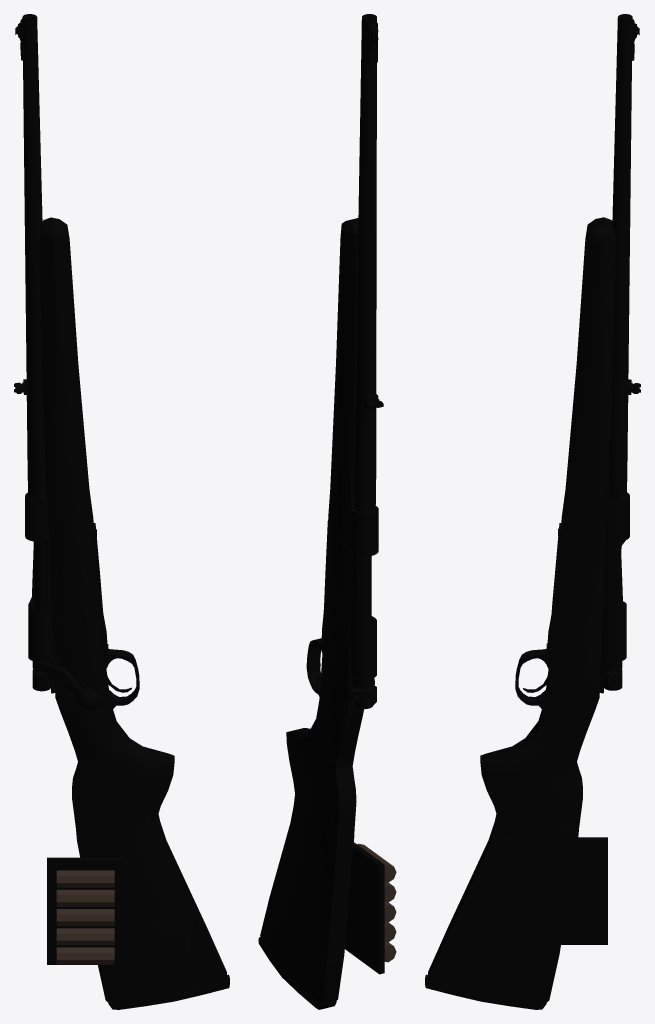
The model's file is Win70__ShellHolder_Butt.fbx.
3 renders of one model, left to right at view 1: azimuth 90°, elevation 25°; view 2: azimuth 210°, elevation 25°; view 3: azimuth 270°, elevation 25°, orthographic. The views are drawn at different scales.
Parts seen in each view (by area): view 1: asset_Win70.001; view 2: asset_Win70.001; view 3: asset_Win70.001.
Part boxes in pixels (<box>): asset_Win70.001: <box>14,14,229,1009</box>; asset_Win70.001: <box>258,14,396,1009</box>; asset_Win70.001: <box>425,14,640,1009</box>.
Size of the model in its own units: 0.0385 by 0.678 by 0.134.
